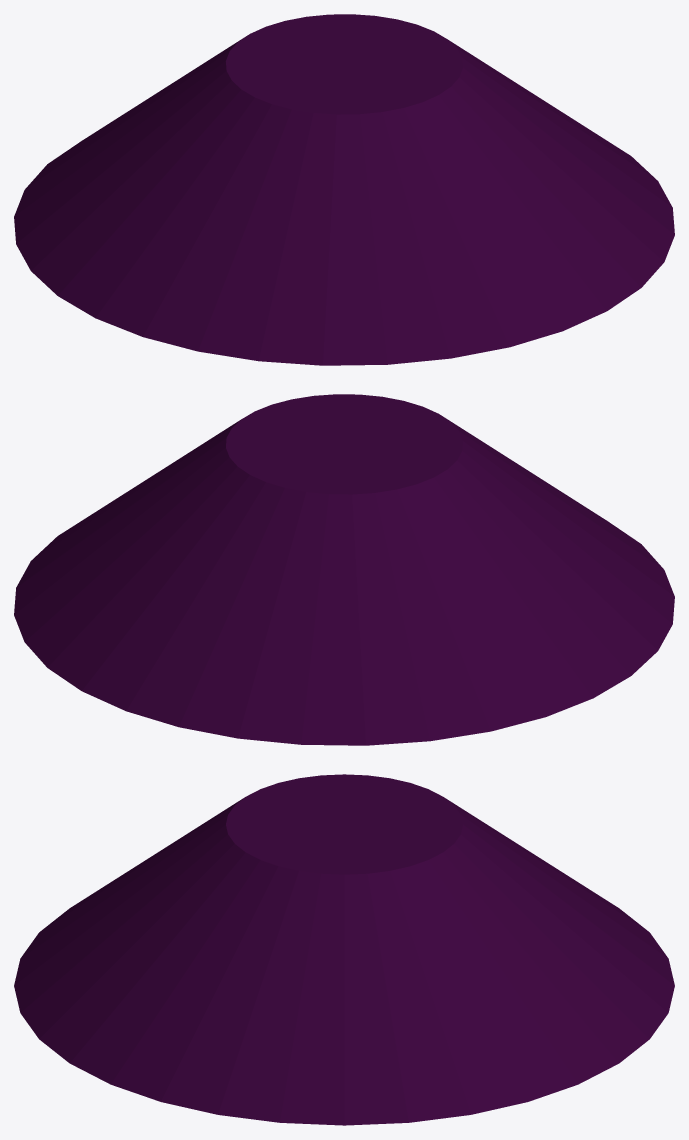
Rendered from mountain.dae.
The picture shows the model from 3 angles, top to bottom: view 1: azimuth 30°, elevation 25°; view 2: azimuth 150°, elevation 25°; view 3: azimuth 270°, elevation 25°; orthographic projection.
Parts seen in each view (by area): view 1: Cone; view 2: Cone; view 3: Cone.
Part boxes in pixels (bbox=[...]): Cone: bbox=[14, 14, 674, 365]; Cone: bbox=[14, 394, 674, 745]; Cone: bbox=[14, 774, 674, 1125].
Bounding box in the file's own units: 11.14 × 11.14 × 3.
